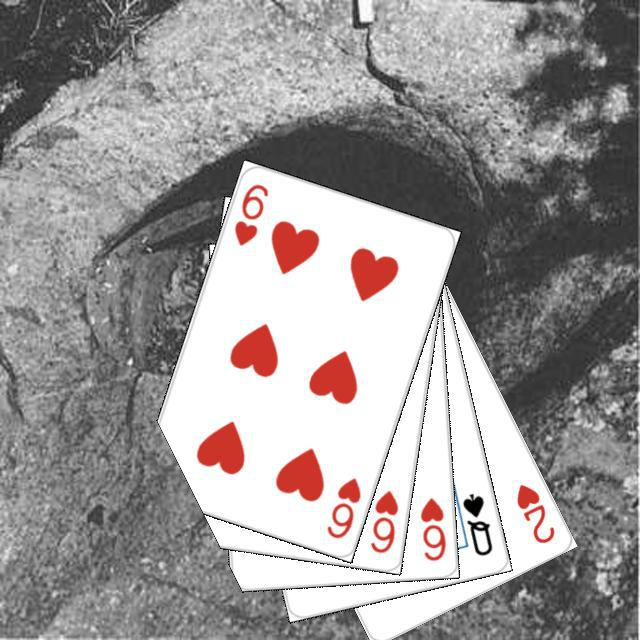2h: (511, 479, 557, 546)
6h: (321, 472, 363, 540), (229, 179, 270, 248), (365, 485, 400, 555), (415, 493, 448, 563)
Qs: (457, 488, 494, 558)
